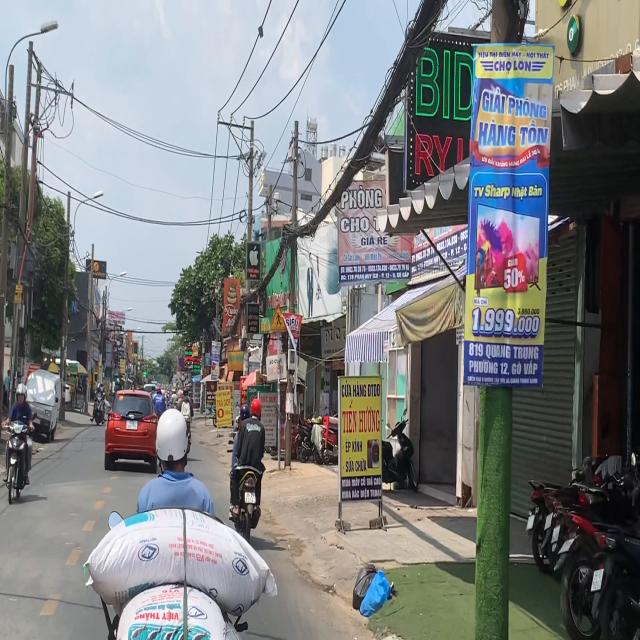Nguoi di bo cat ngang: (269, 302, 288, 332)
